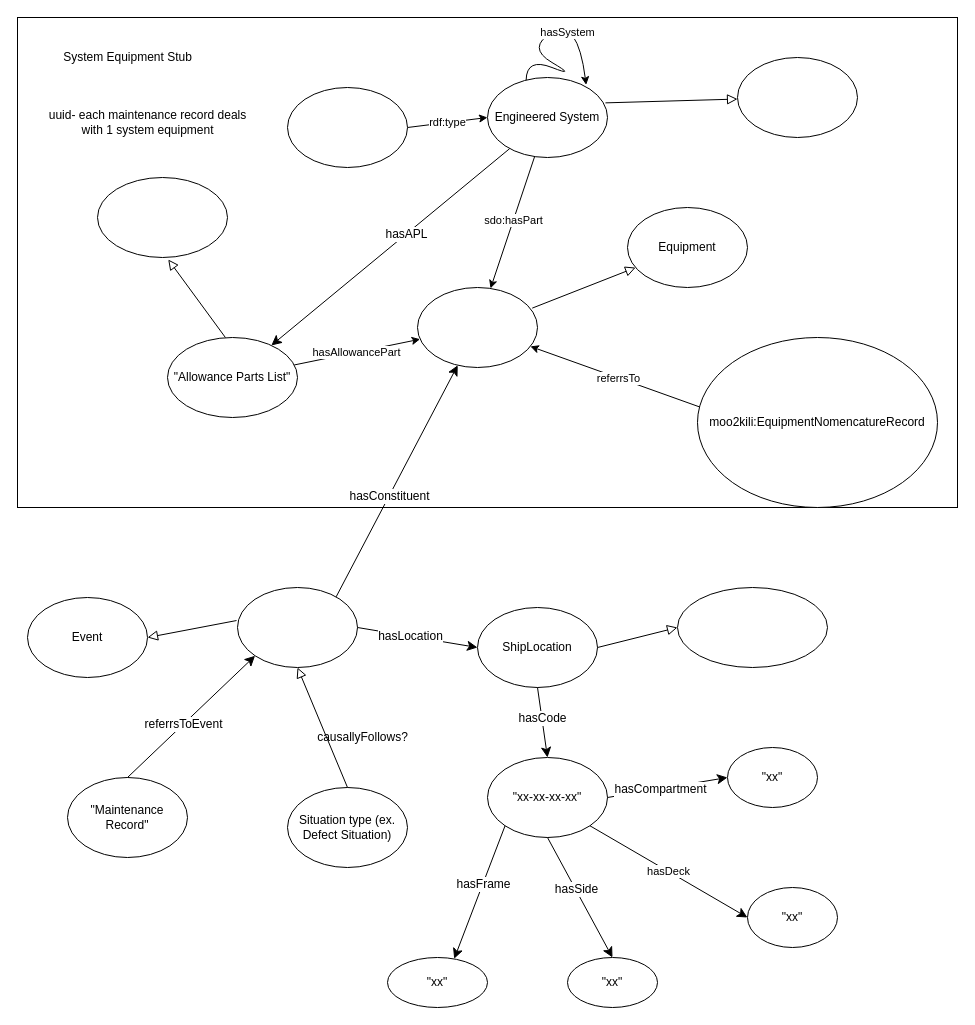
Some shapes in this 975 by 1025 pixel diagram are drawn without their labels. The shapes that lost their labels are listed below. From the top down, each one's box as (x1, y1, x2, y2) in pixels, then its label:
(736, 56, 858, 138): System
(286, 86, 408, 168): AN/SLQ-32
(96, 176, 228, 258): prov:Collection
(416, 286, 538, 368): System Equipment
(236, 586, 358, 668): MaintanenceEvent
(676, 586, 828, 668): geosparql:spatialObject
